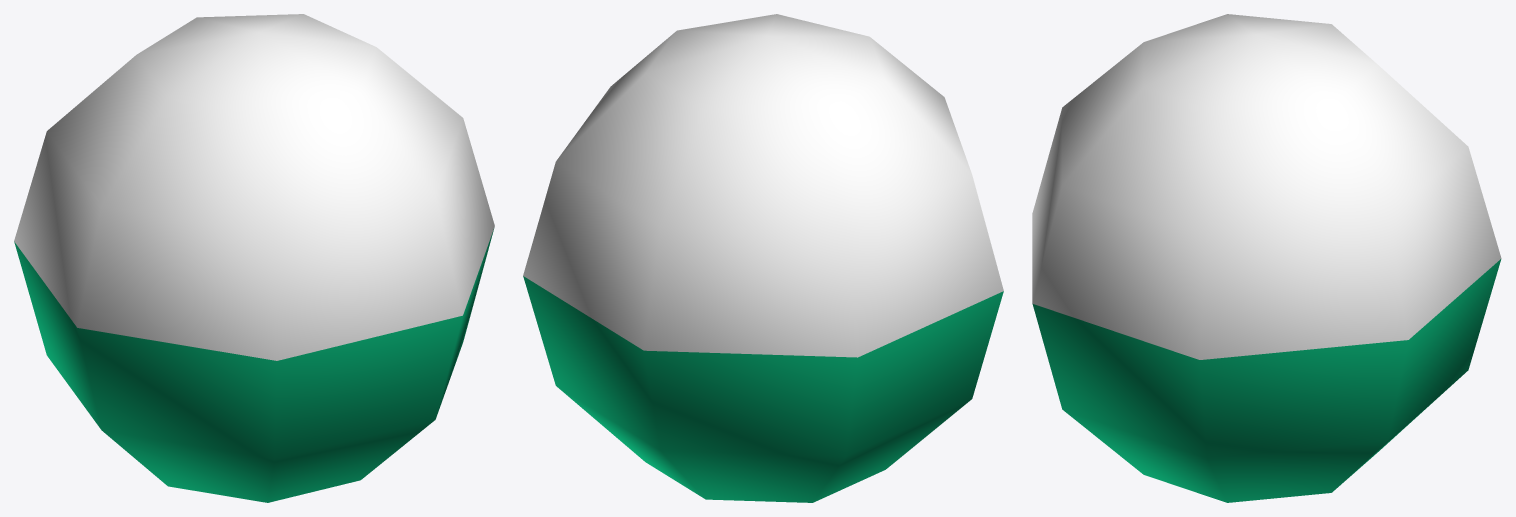
Rendered from tommyball.fbx.
The picture shows the model from 3 angles, left to right: view 1: azimuth 30°, elevation 25°; view 2: azimuth 150°, elevation 25°; view 3: azimuth 270°, elevation 25°; orthographic projection.
Visible parts, largest first — view 1: TommyBall; view 2: TommyBall; view 3: TommyBall.
Part boxes in pixels (<box>): TommyBall: <box>14,14,494,502</box>; TommyBall: <box>523,14,1003,502</box>; TommyBall: <box>1032,14,1501,502</box>.
Size of the model in its own units: 1.7 by 1.65 by 1.74.
